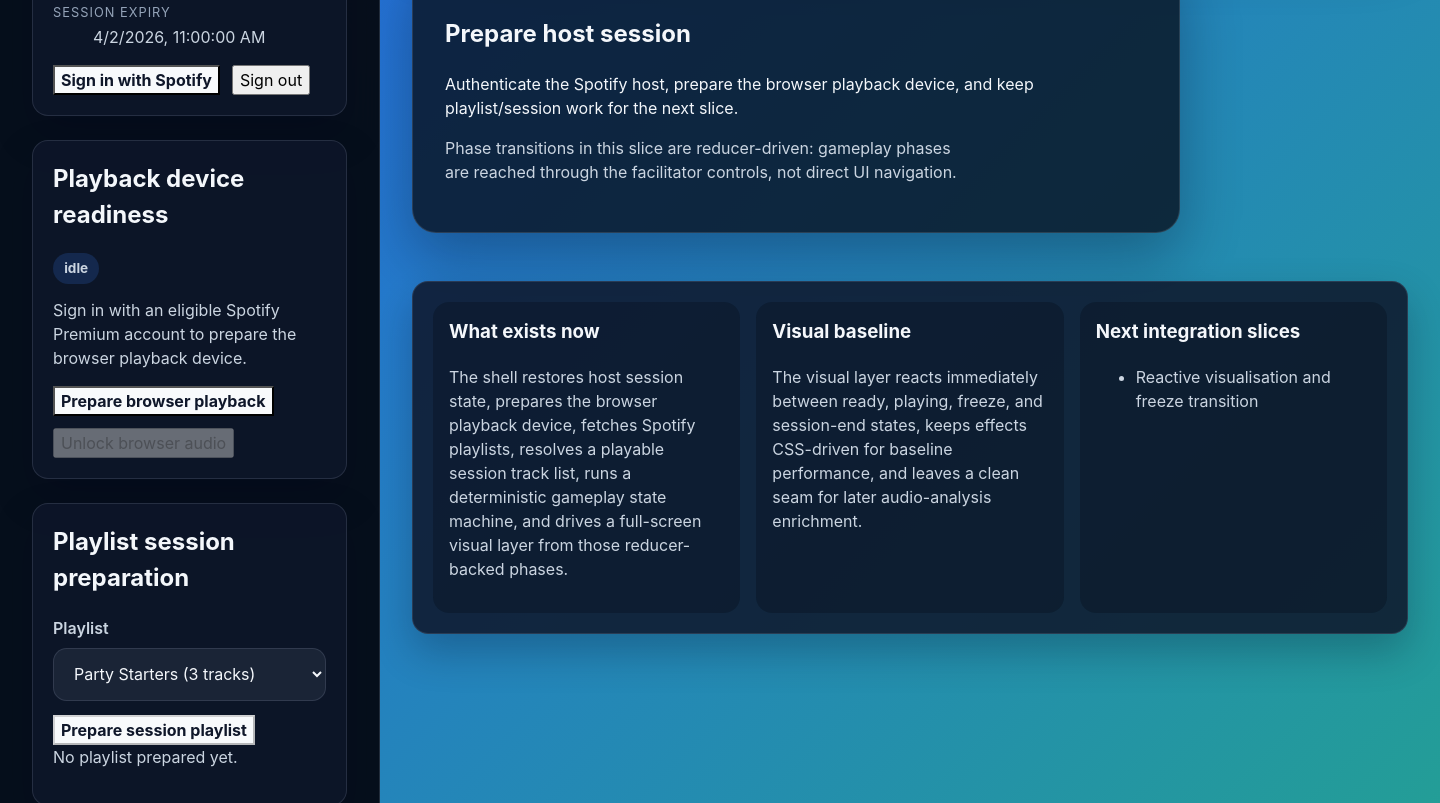
Scenario: App gameplay control slice › gates ready state until playlist preparation and playback readiness are both satisfied
(page scrolled)
Step 1. Click the button "Prepare browser playback" → (163, 401), box [53,386,274,416]
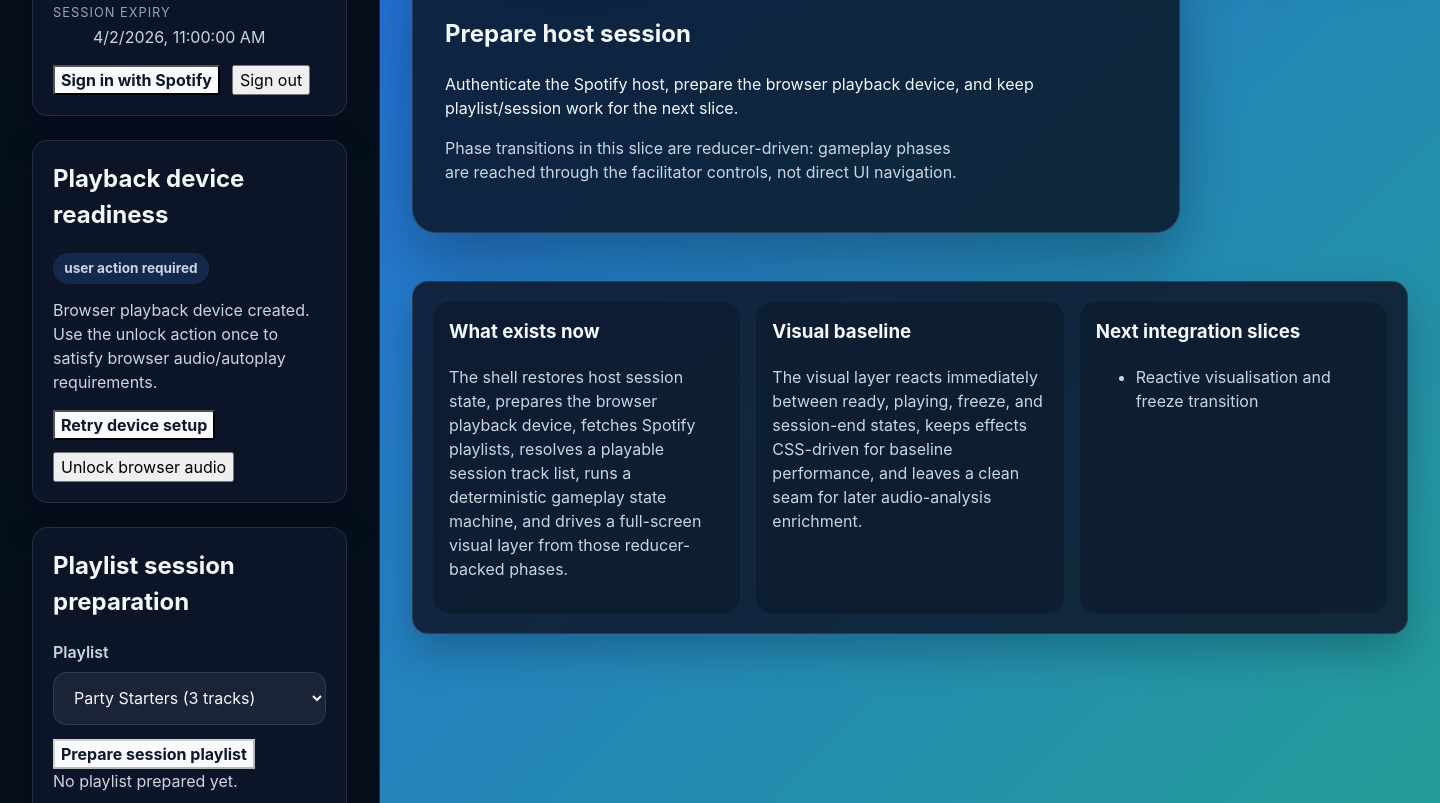
Check: the button "Unlock browser audio" is enabled
Step 2. Click the button "Unlock browser audio" → (144, 467), box [53,452,234,482]
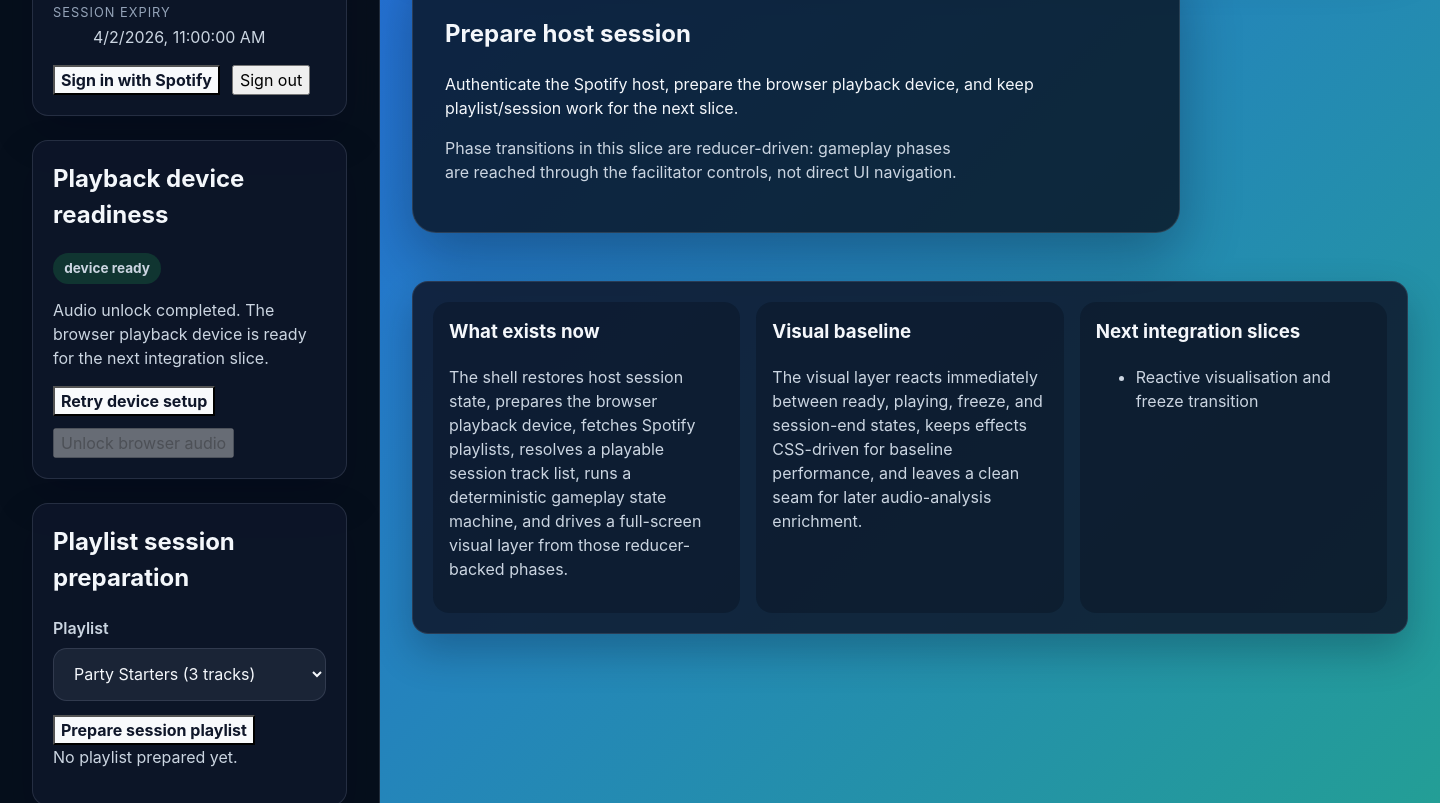
Step 3. Click the button "Prepare session playlist" → (154, 730), box [53,715,255,745]
(page scrolled)
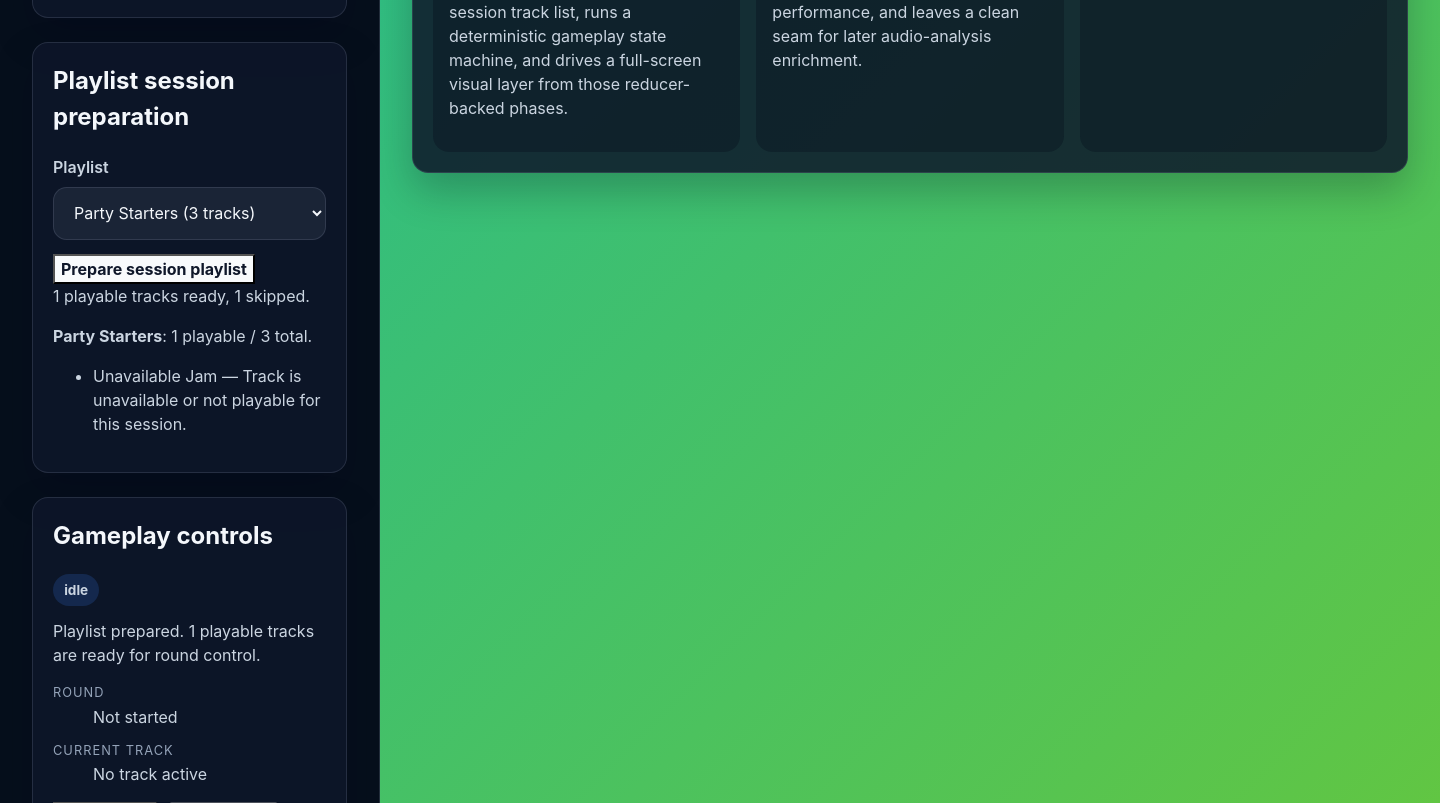
Check: the text "1 playable tracks ready, 1 skipped." is shown 2 times
Check: the list item "Unavailable Jam" is shown, box [93,366,217,386]
